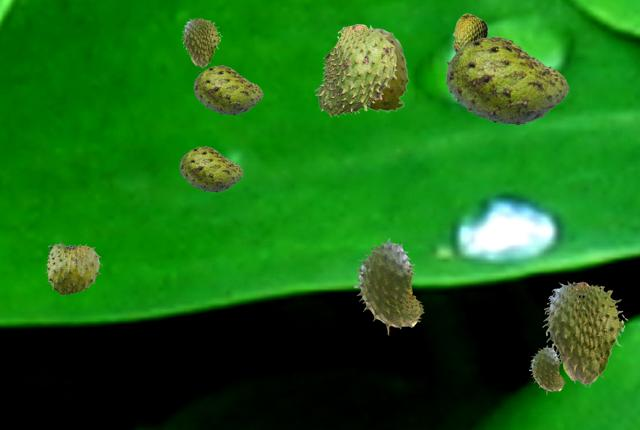guyabano: (445, 36, 568, 124), (542, 281, 627, 386), (314, 24, 396, 116), (354, 238, 423, 334), (193, 65, 262, 114), (368, 28, 408, 112), (45, 241, 101, 294), (179, 146, 242, 191), (181, 18, 221, 67), (529, 345, 564, 394), (452, 13, 487, 51)
